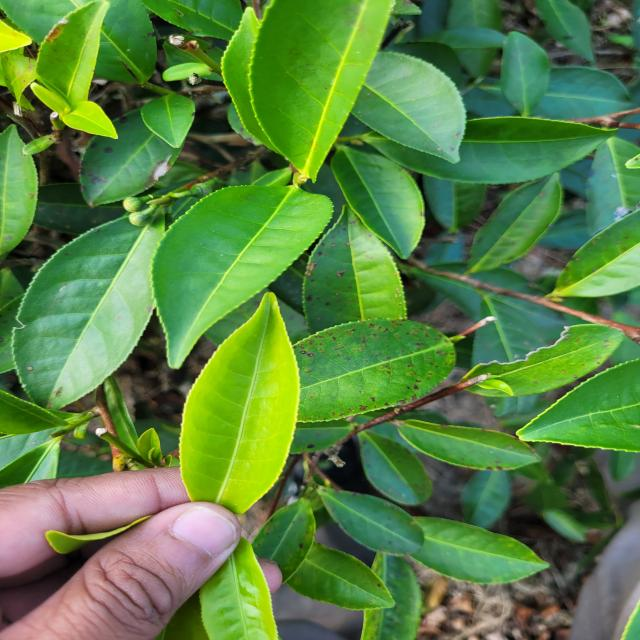Category B(2-4 days): (165, 286, 328, 514)
